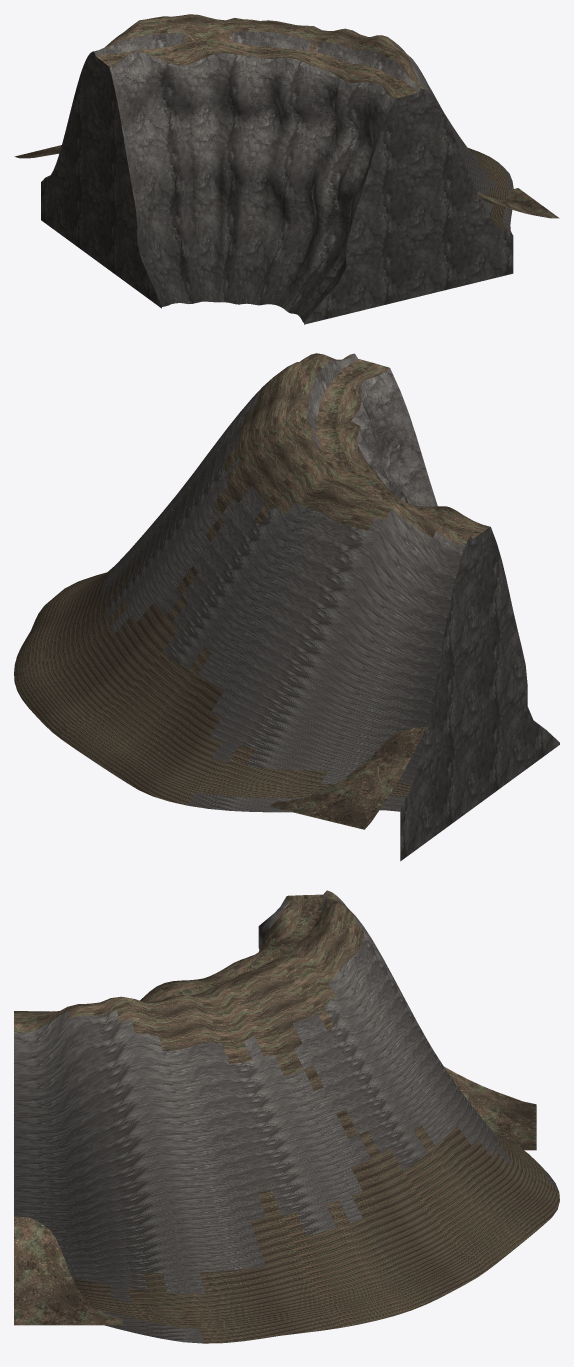
The model's file is seacliff_inner_h5_v5_autumn.glb.
The picture shows the model from 3 angles, top to bottom: view 1: azimuth 30°, elevation 25°; view 2: azimuth 150°, elevation 25°; view 3: azimuth 270°, elevation 25°; orthographic projection. The views are drawn at different scales.
Parts seen in each view (by area): view 1: seacliff_inner_h5; view 2: seacliff_inner_h5; view 3: seacliff_inner_h5.
Boxes of the visible parts, x1,y1,x2,y2 form: seacliff_inner_h5: (14, 14, 559, 324); seacliff_inner_h5: (14, 353, 559, 861); seacliff_inner_h5: (14, 890, 559, 1343).
Size of the model in its own units: 12.05 by 7.29 by 12.01.
Materials: 2 (2 with a texture image).
